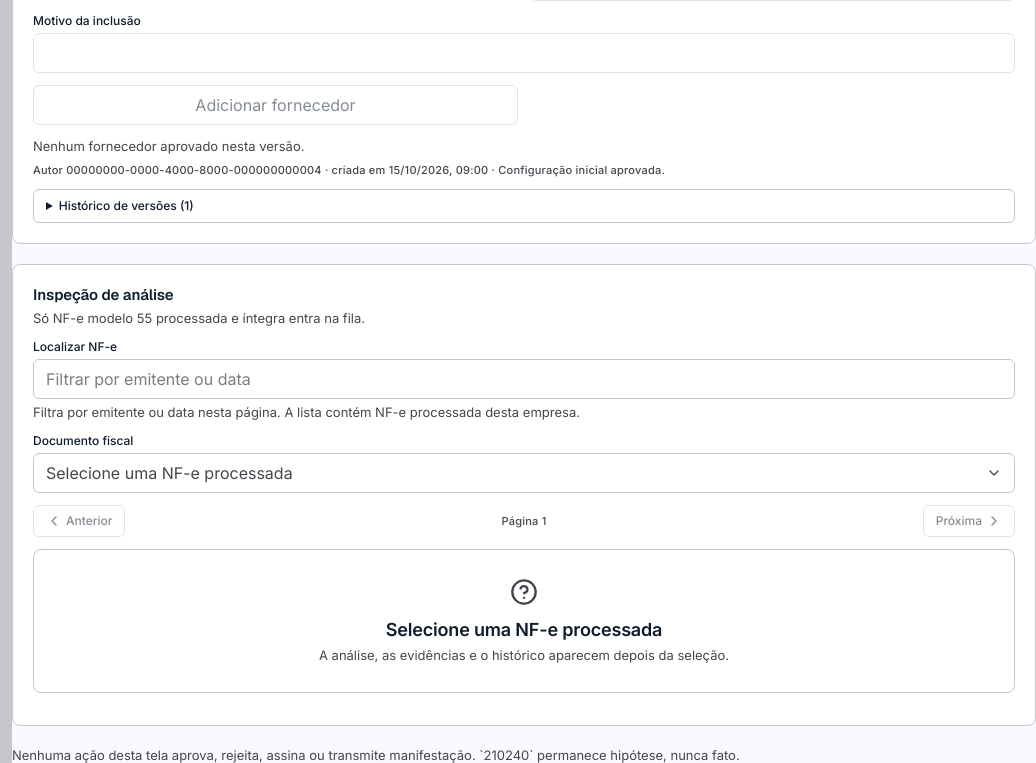
Test: painel de risco fiscal F20 › filtra a lista de NF-e e mostra vazio distinto quando não há correspondência
(page scrolled)
In the field labelled "Localizar NF-e": (524, 379) x1=33 y1=359 x2=1015 y2=399, type "emitente inexistente"
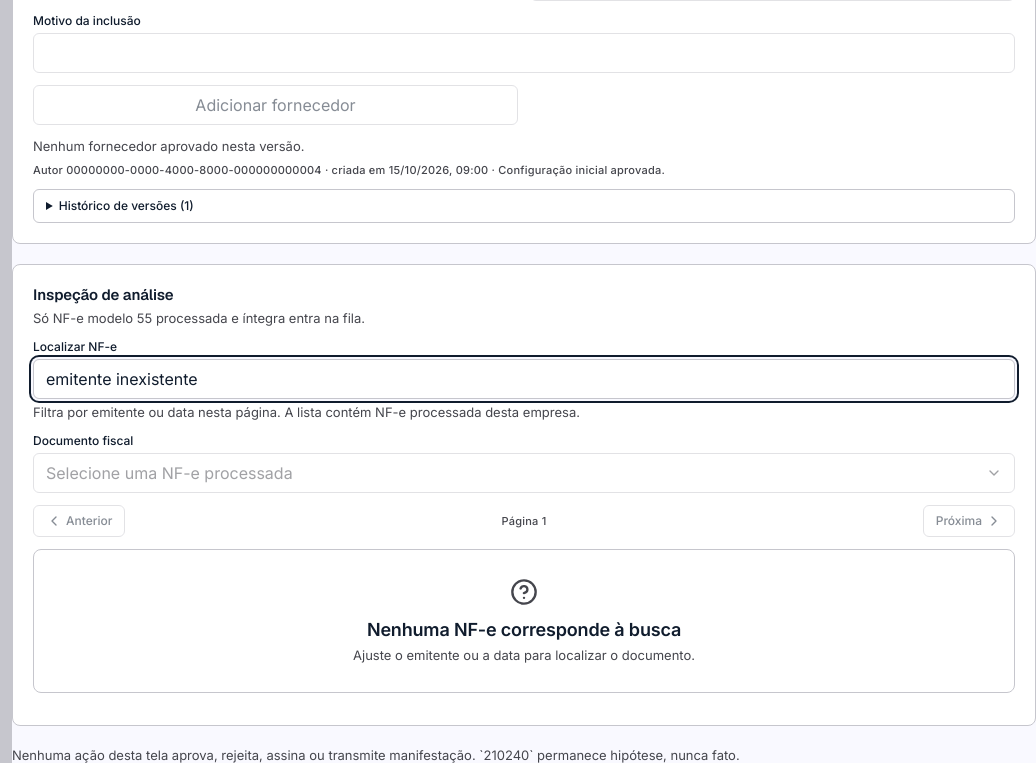
Now the heading "Nenhuma NF-e corresponde à busca" is shown, box x1=353 y1=618 x2=695 y2=642
